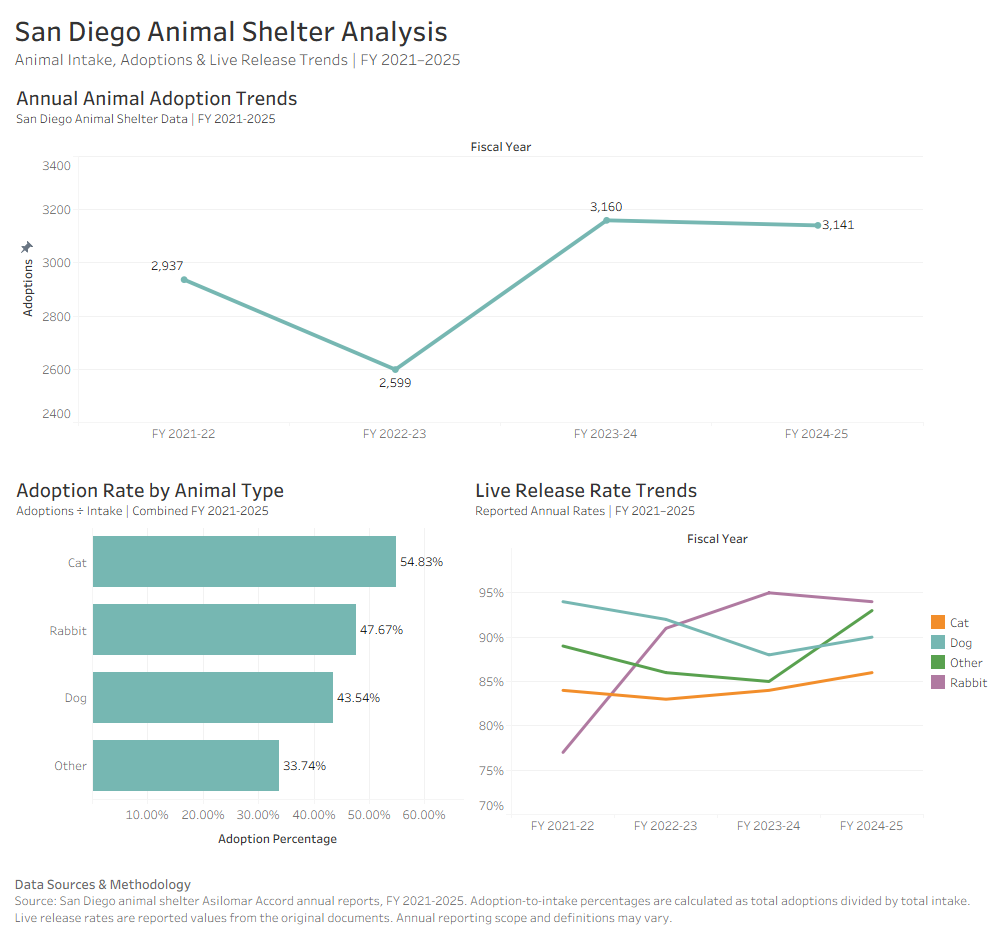

What the dashboard file says about the page in this screenshot:
{"tool":"tableau","page":{"name":"Animal Shelter Dashboard","canvas":[1000,950],"ordinal":0},"visuals":[{"type":"title","box":[8,8,984,66]},{"type":"worksheet","title":"Annual Adoption Trends","mark":"Line","rows":["Adoptions"],"cols":["FiscalYear"],"box":[8,74,919,392.3]},{"type":"worksheet","title":"Adoption Percentage by Animal","mark":"Bar","rows":["AnimalType"],"cols":["Calculation_5141097977540608"],"box":[8,466.3,459.5,392.3]},{"type":"worksheet","title":"Live Release Rate Trends","mark":"Line","rows":["LiveReleaseRate"],"cols":["FiscalYear"],"box":[467.5,466.3,459.5,392.3]},{"type":"legend","title":"Live Release Rate Trends","param":"[federated.0kjrk9l0a5yqa315s1839162ccqt].[none:AnimalType:nk]","box":[928,612,66,120]},{"type":"text","box":[8,858.6,984,83.4]}]}

Visuals, with their boxes in screenshot pixels (x1, y1, x2, y2), scaled from the page's 1000x950 canvas onto the 1000x950 screenshot:
title: bbox=[8, 8, 992, 74]
"Annual Adoption Trends" worksheet (Line marks): bbox=[8, 74, 927, 466]
"Adoption Percentage by Animal" worksheet (Bar marks): bbox=[8, 466, 468, 859]
"Live Release Rate Trends" worksheet (Line marks): bbox=[468, 466, 927, 859]
"Live Release Rate Trends" legend: bbox=[928, 612, 994, 732]
text: bbox=[8, 859, 992, 942]
